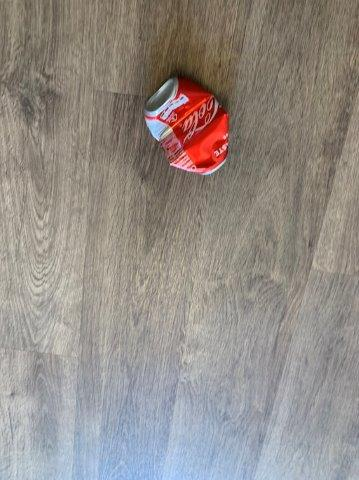kaleng: (145, 78, 230, 174)
